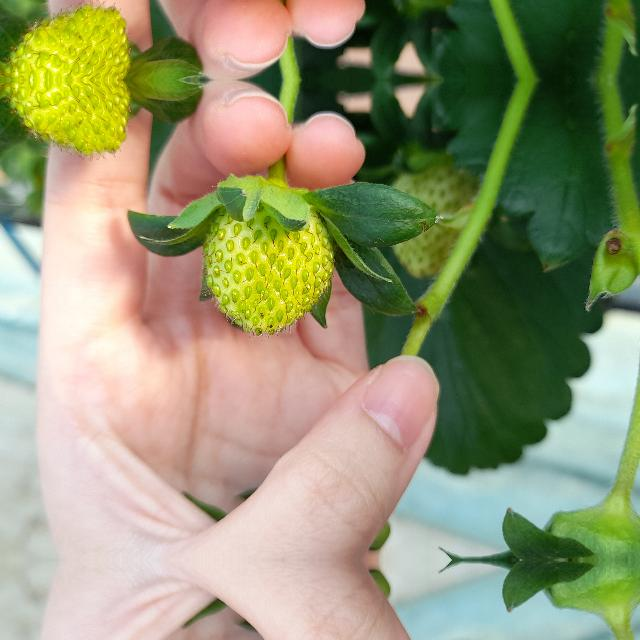Health_25: (202, 198, 334, 336), (0, 79, 134, 158), (0, 1, 134, 80)
